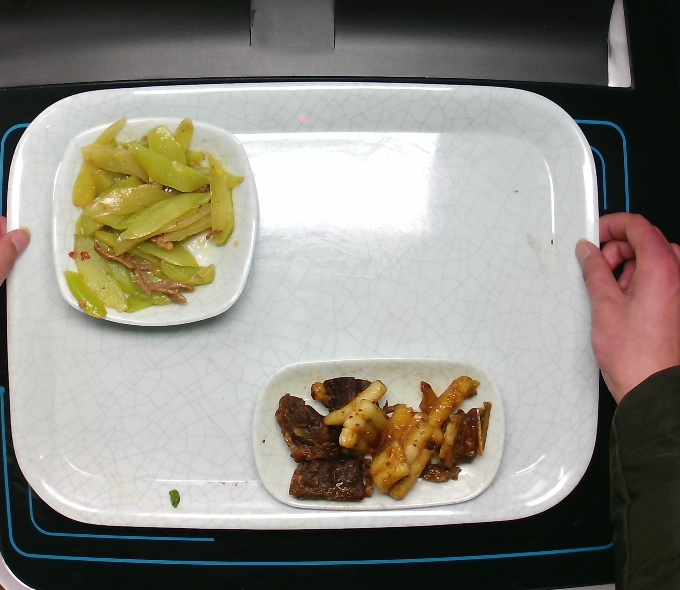wcq-NianGaoZaiPai: (270, 372, 495, 508)
wcq-WoSun: (57, 118, 248, 326)
